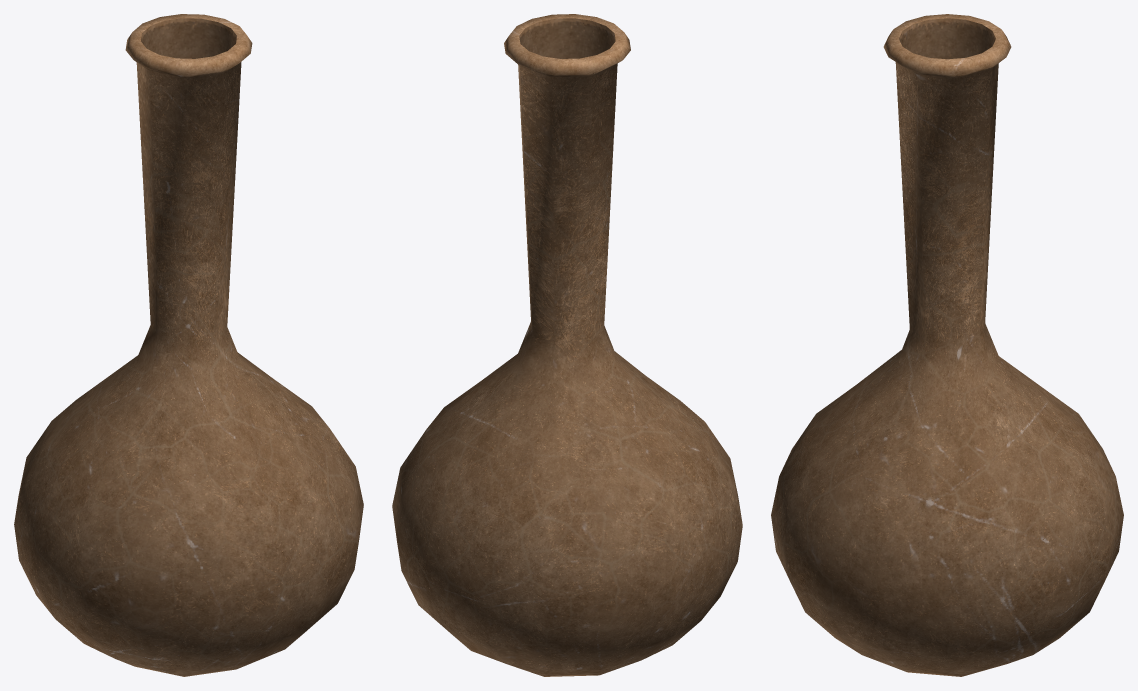
Rendered from VaseDecorative.fbx.
3 renders of one model, left to right at view 1: azimuth 30°, elevation 25°; view 2: azimuth 150°, elevation 25°; view 3: azimuth 270°, elevation 25°, orthographic.
Parts seen in each view (by area): view 1: VaseDecorative; view 2: VaseDecorative; view 3: VaseDecorative.
Part boxes in pixels (box(x1,y1,x2,y2)): VaseDecorative: box(14, 14, 363, 676); VaseDecorative: box(392, 14, 742, 676); VaseDecorative: box(771, 14, 1123, 676).
Size of the model in its own units: 36.05 by 68.56 by 36.05.
